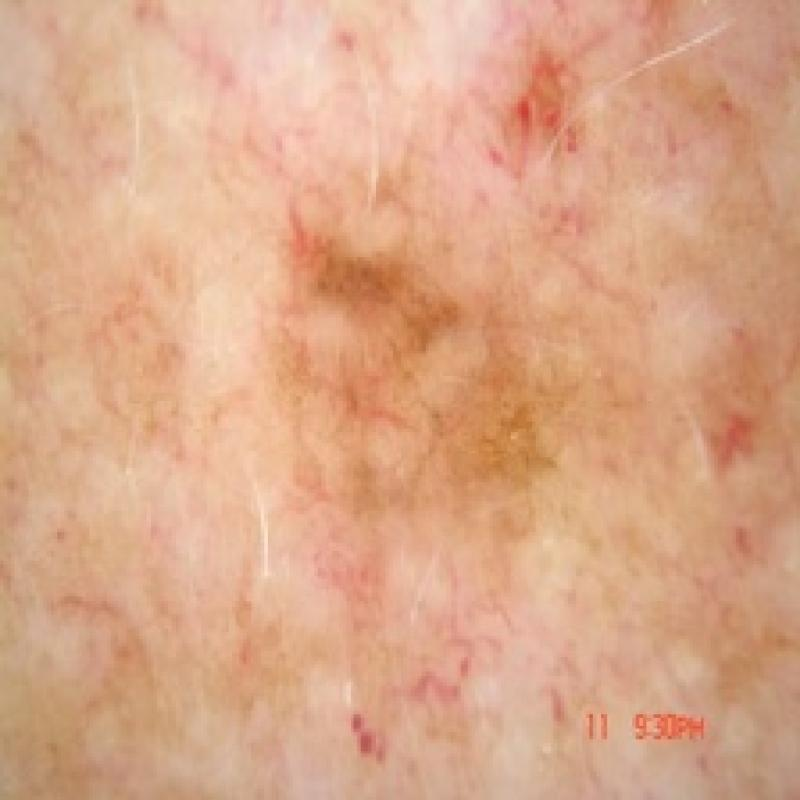malignant: (260, 197, 560, 522), (432, 29, 629, 234)
